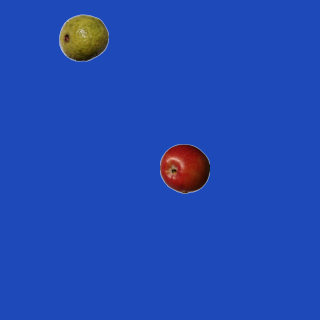Apple Braeburn: (159, 143, 209, 193)
Guava: (58, 12, 108, 62)
